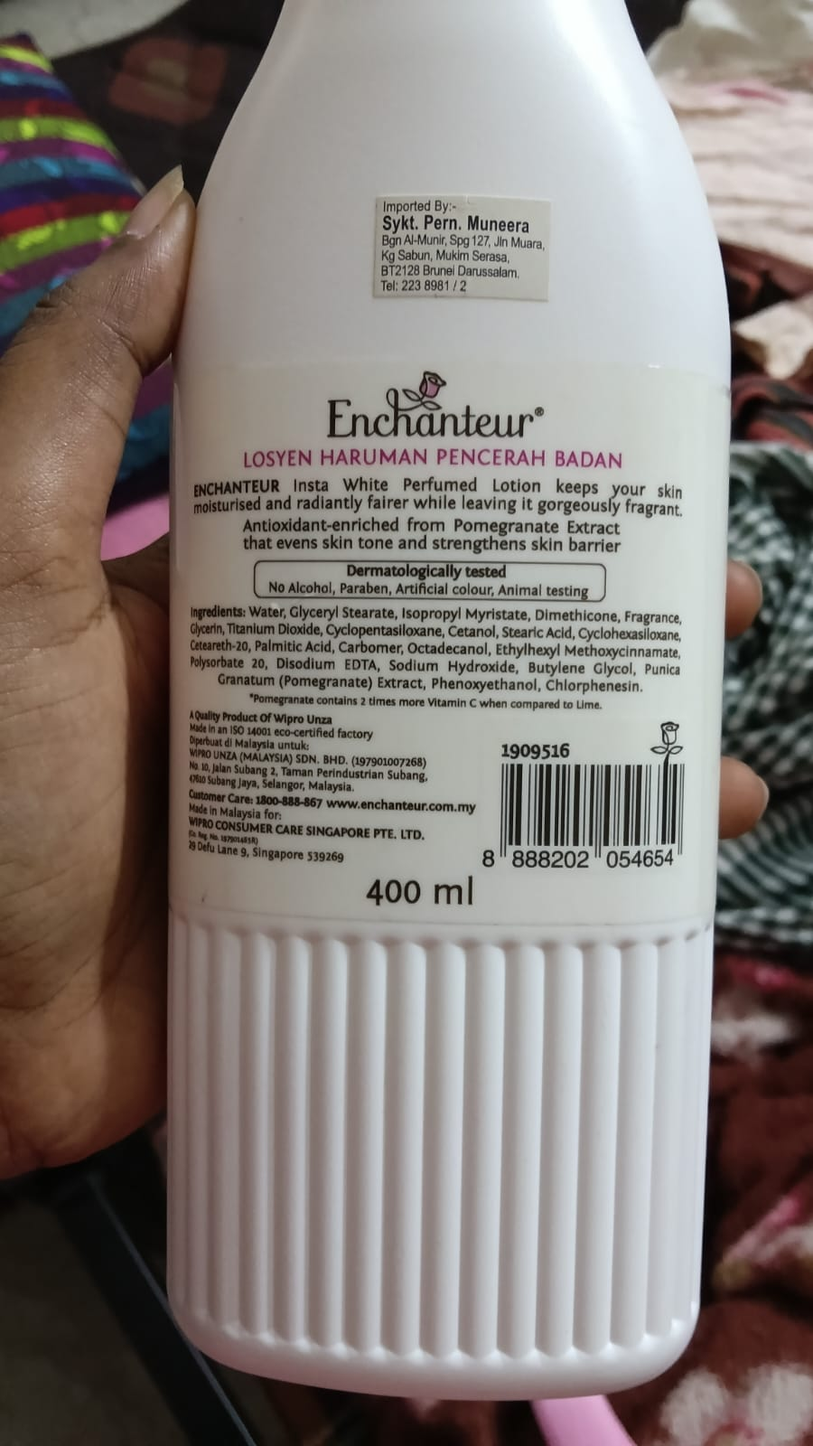brand_panel: (213, 327, 689, 474)
net_qty: (348, 875, 504, 913)
origin: (183, 798, 287, 828)
